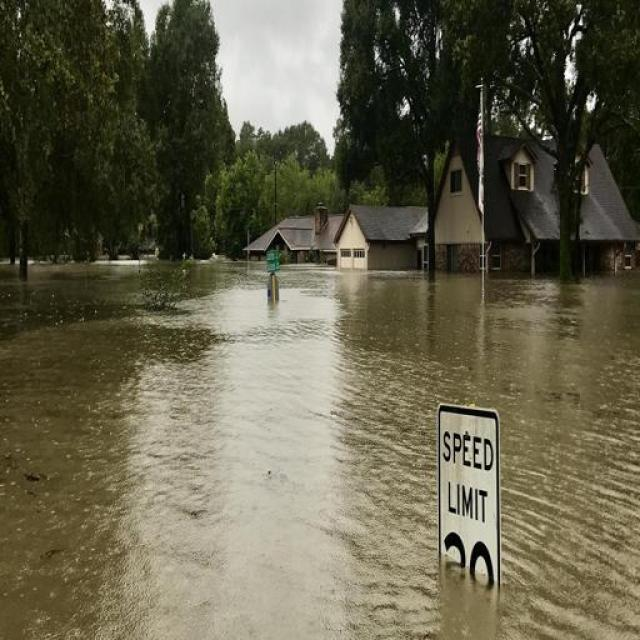puddle: (8, 334, 440, 639), (10, 284, 634, 398), (501, 275, 635, 634)
